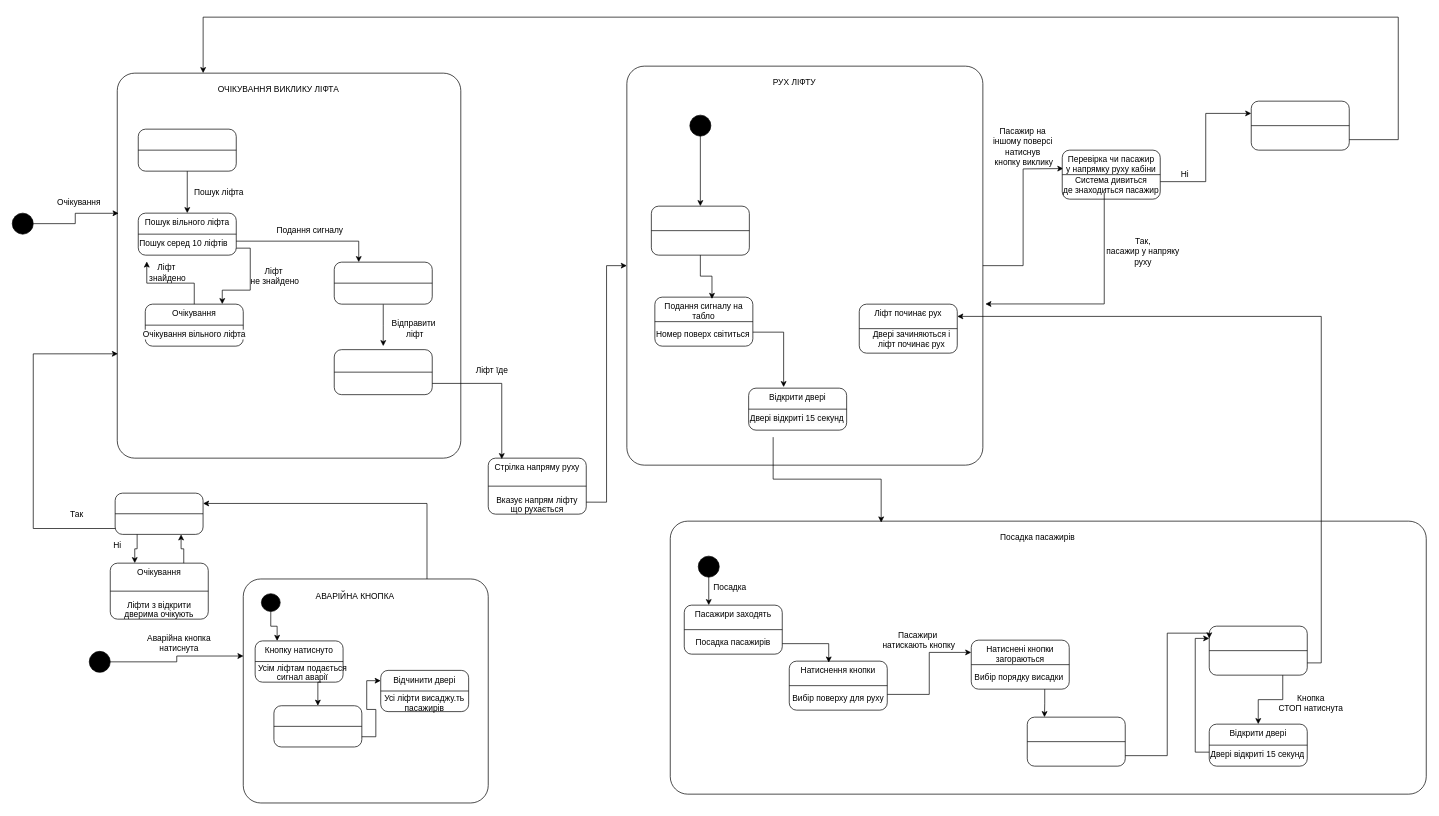
Image size: 1439x816. Some labels were removed from this diagram. Here are the shapes that lost their labels. From the top down, the centre of each, then its label:
At pixel 1300 125: "Рух до поверху призначення".
At pixel 187 149: "Отримано виклик".
At pixel 700 230: "Прибуття ліфту на поверх".
At pixel 383 282: "Подати сигнал ліфту".
At pixel 383 372: "Відправити ліфт на поверх".
At pixel 158 513: "Кнопку деактивували".
At pixel 1258 650: "Перевірка натискання кнопки СТОП".
At pixel 317 726: "Ліфти на 1 поверх".
At pixel 1076 741: "Двері зачиняються".
